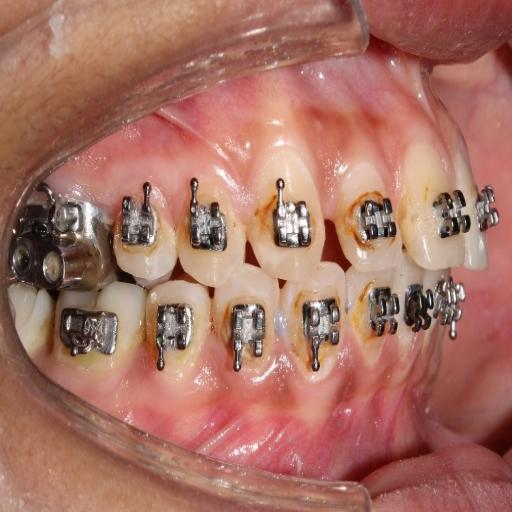correct_brace: (175, 179, 243, 288), (433, 185, 472, 240), (271, 198, 312, 250), (359, 193, 397, 241)
incorrect_brace: (338, 156, 402, 276), (186, 197, 228, 253)
